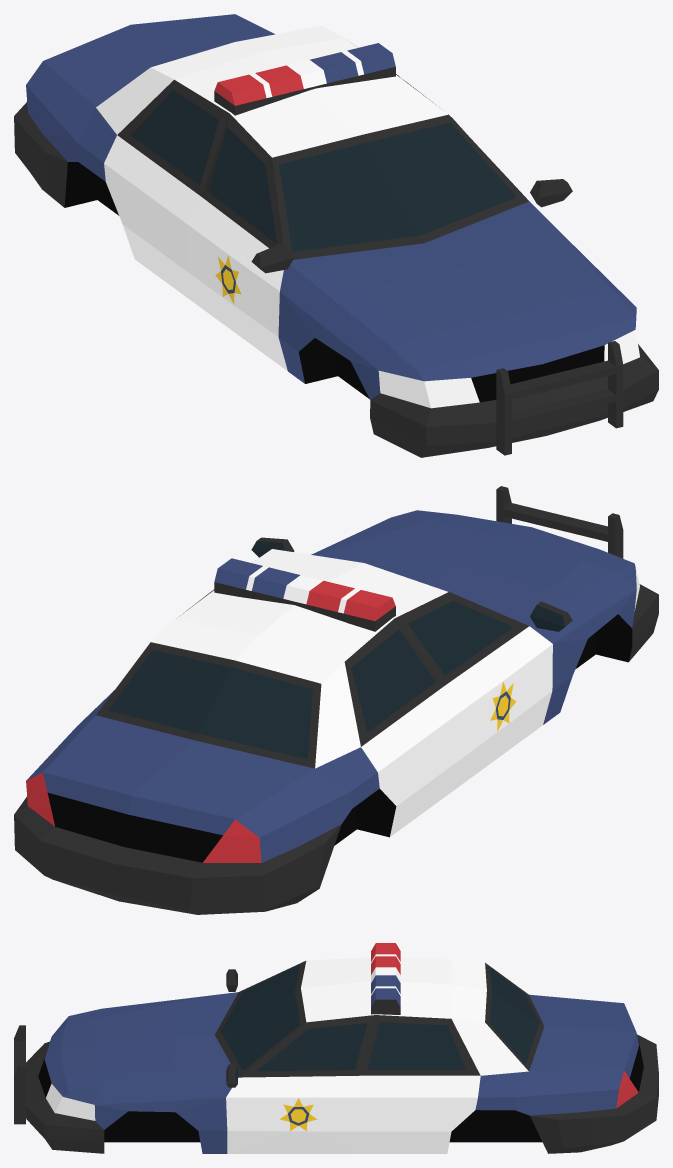
File: car-police-base.glb
3 renders of one model, top to bottom at view 1: azimuth 30°, elevation 25°; view 2: azimuth 150°, elevation 25°; view 3: azimuth 270°, elevation 25°, orthographic. The views are drawn at different scales.
Parts seen in each view (by area): view 1: car-police-base; view 2: car-police-base; view 3: car-police-base.
Part boxes in pixels (<box>): car-police-base: <box>14,14,658,457</box>; car-police-base: <box>14,486,658,914</box>; car-police-base: <box>14,943,658,1153</box>.
Bounding box in the file's own units: 2.19 × 1.28 × 5.44.
Materials: 1 (1 with a texture image).
